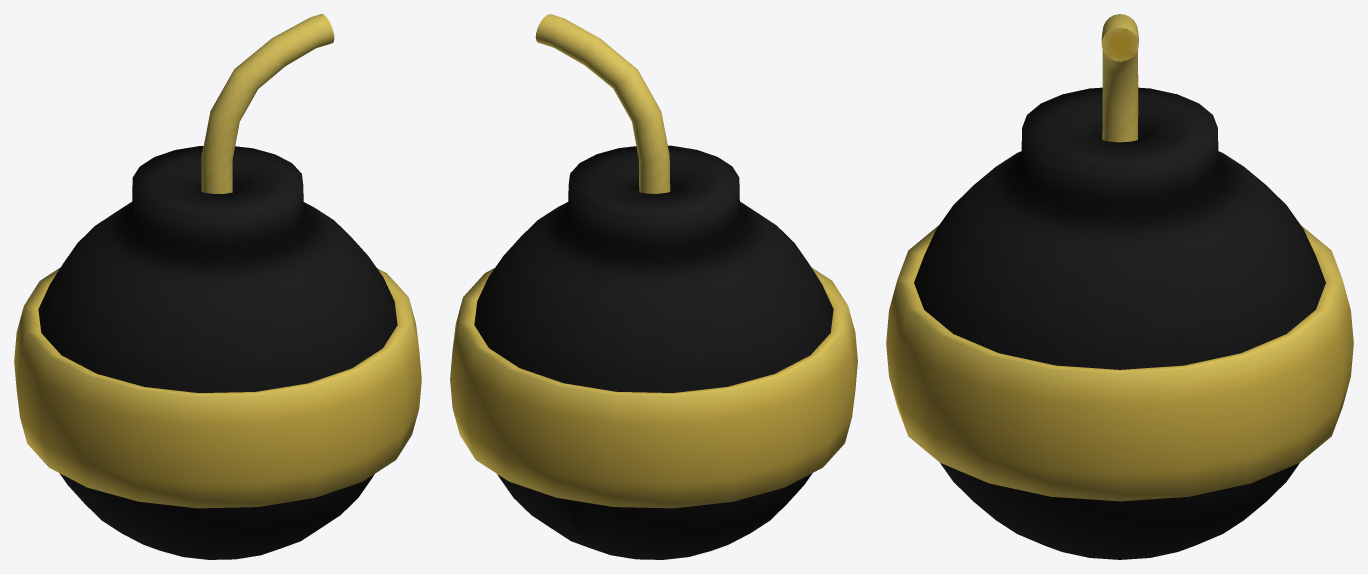
The picture shows the model from 3 angles, left to right: view 1: azimuth 30°, elevation 25°; view 2: azimuth 150°, elevation 25°; view 3: azimuth 270°, elevation 25°; orthographic projection. The views are drawn at different scales.
Parts seen in each view (by area): view 1: SphereBlast01_low, SphereBlast02_low, SphereBlast03_low; view 2: SphereBlast01_low, SphereBlast02_low, SphereBlast03_low; view 3: SphereBlast01_low, SphereBlast02_low, SphereBlast03_low.
Part boxes in pixels (x1=…): SphereBlast01_low: x1=38, y1=146, x2=397, y2=559; SphereBlast02_low: x1=14, y1=267, x2=421, y2=508; SphereBlast03_low: x1=201, y1=14, x2=334, y2=193; SphereBlast01_low: x1=474, y1=145, x2=833, y2=559; SphereBlast02_low: x1=450, y1=267, x2=857, y2=508; SphereBlast03_low: x1=535, y1=14, x2=670, y2=193; SphereBlast01_low: x1=914, y1=87, x2=1325, y2=559; SphereBlast02_low: x1=886, y1=225, x2=1353, y2=501; SphereBlast03_low: x1=1101, y1=14, x2=1138, y2=142.
Size of the model in its own units: 2.16 by 2.91 by 2.16.
Materials: 1 (1 with a texture image).
